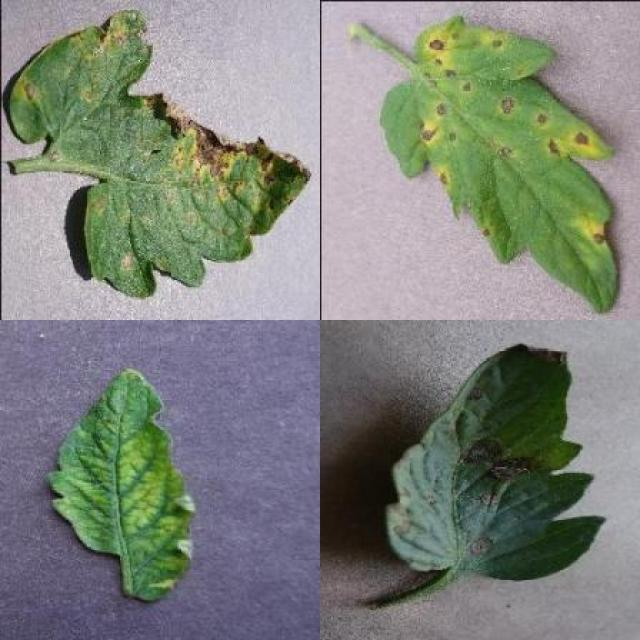Early Blight: (386, 344, 608, 584)
Mosaic Virus: (47, 367, 196, 602)
Septoria: (8, 13, 312, 300), (379, 18, 616, 315)
